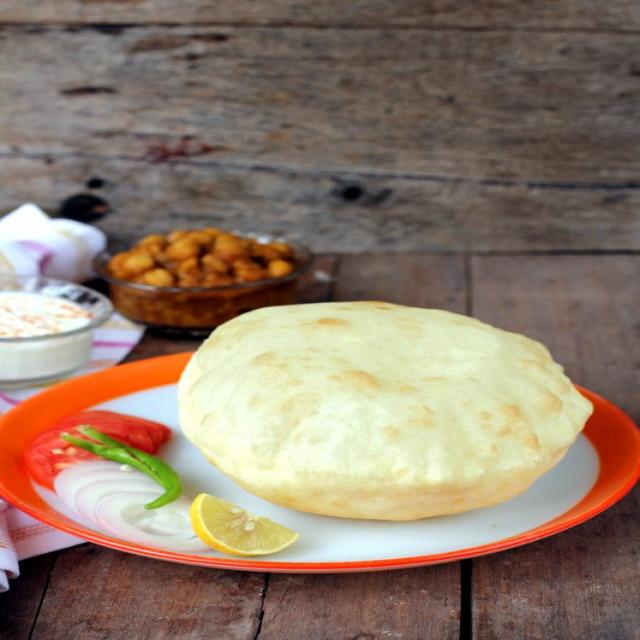puri: (179, 301, 591, 520)
